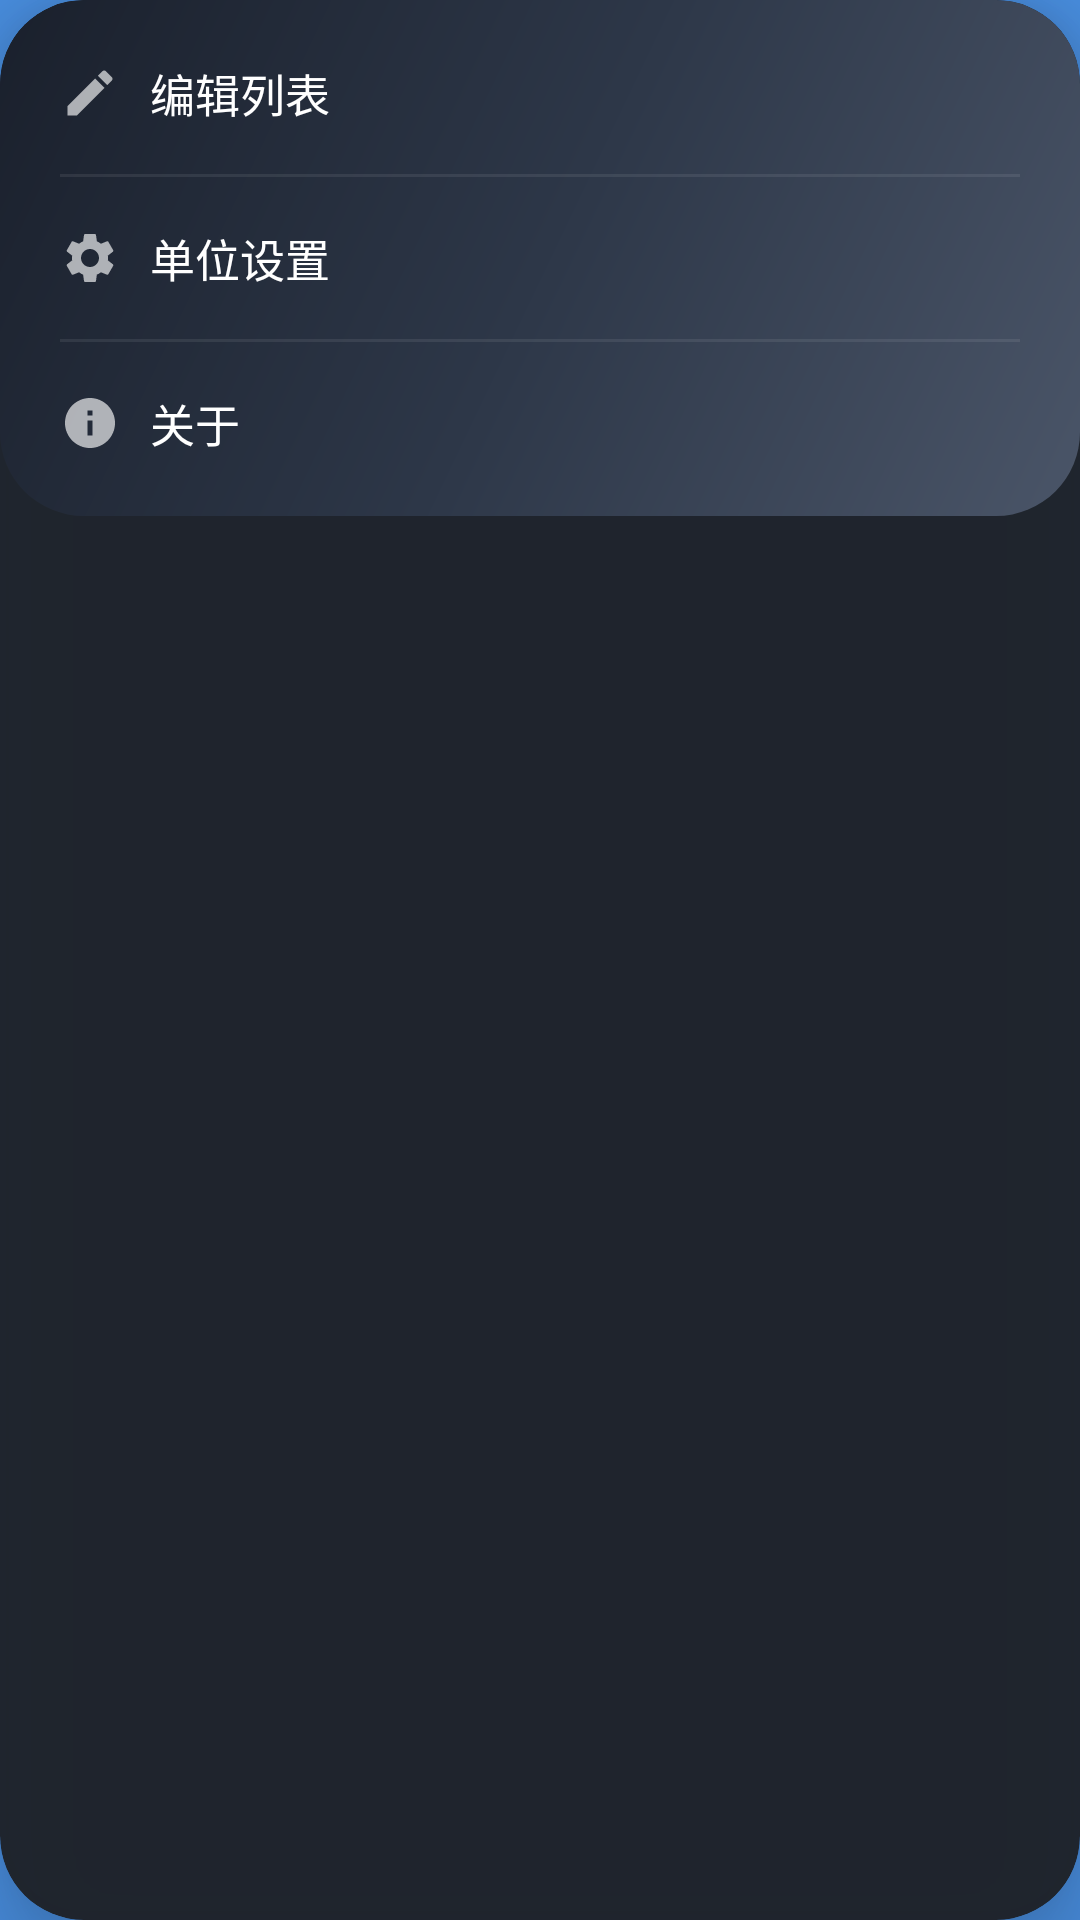

Screen size 1080*1920. Icon name, then its box in pixels as (x1, y1, x2, y2):
edit: (67, 70, 113, 116)
info: (65, 398, 115, 448)
settings: (66, 234, 114, 282)
